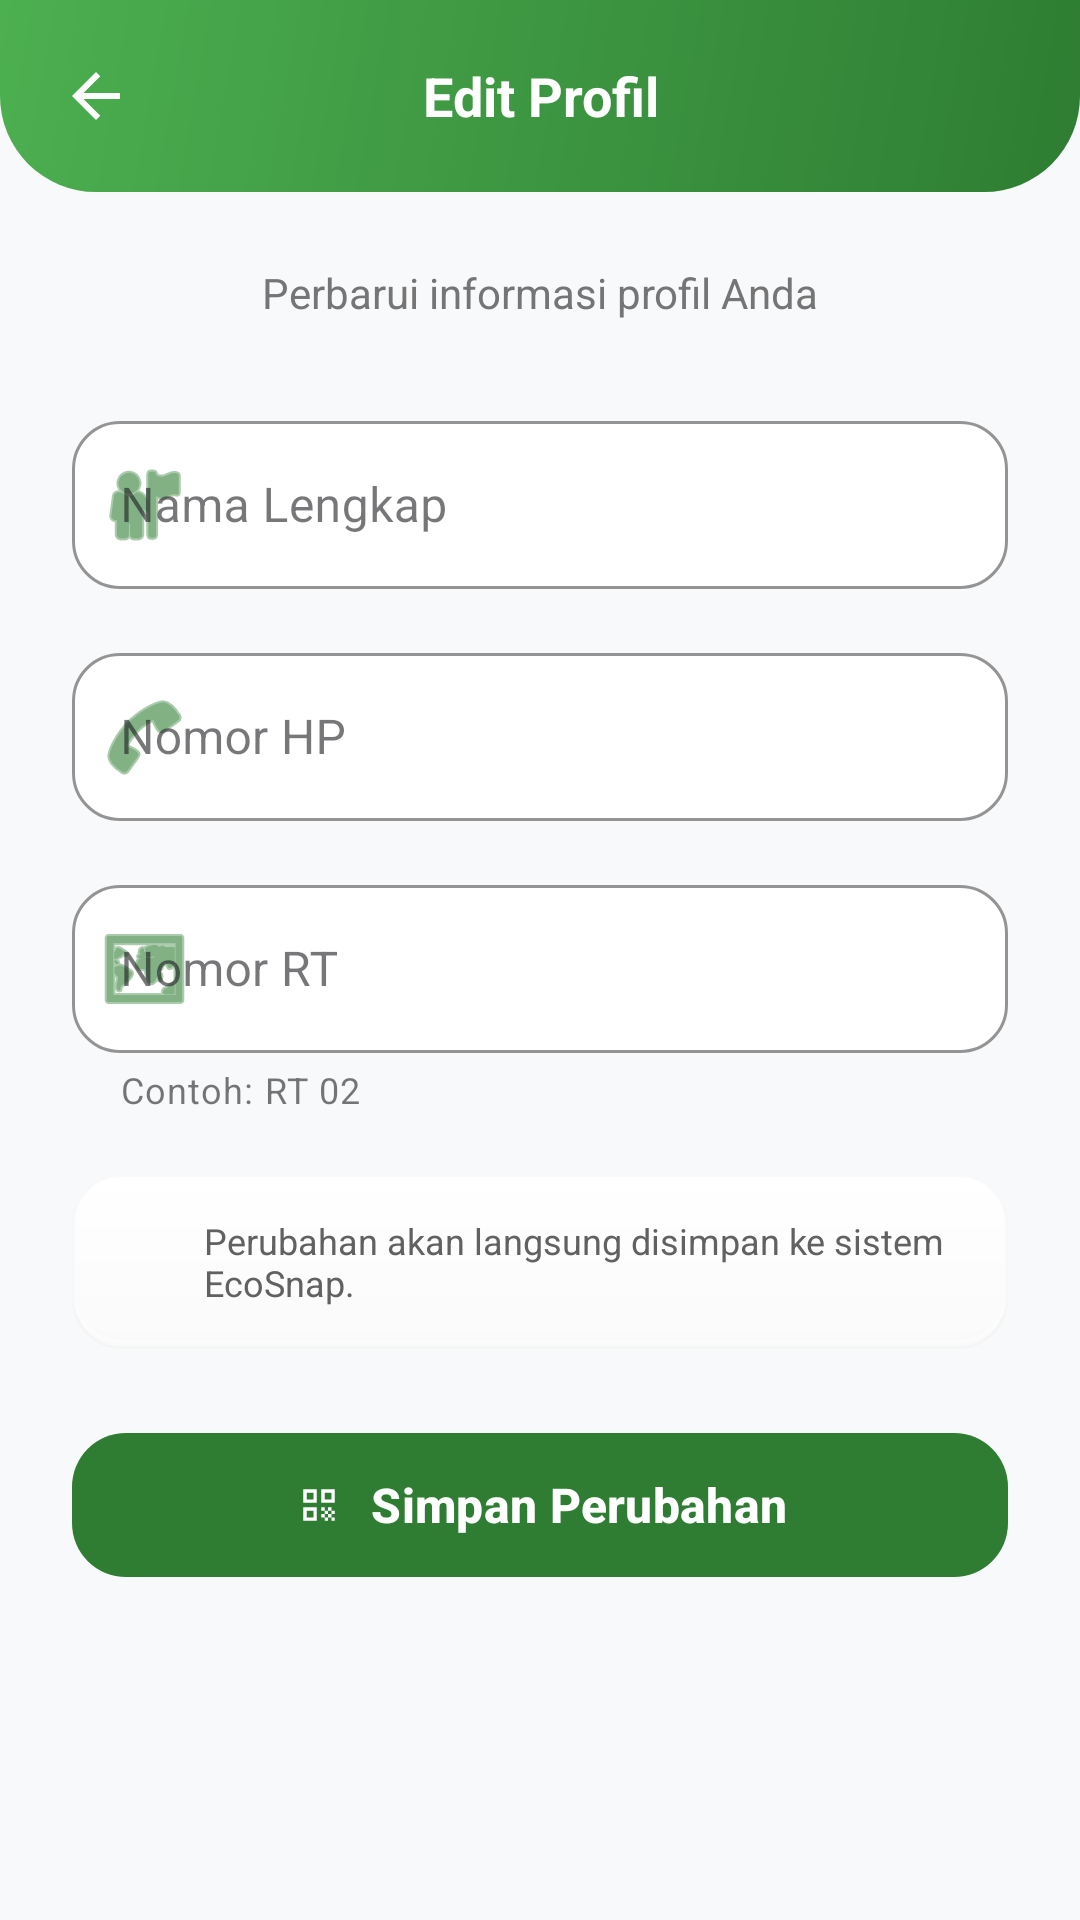

Locate icon controls on the screen. Image size 1080w x 1920h, boxes as (x1, y1, x2, y2).
Kembali: (72, 72, 120, 120)
